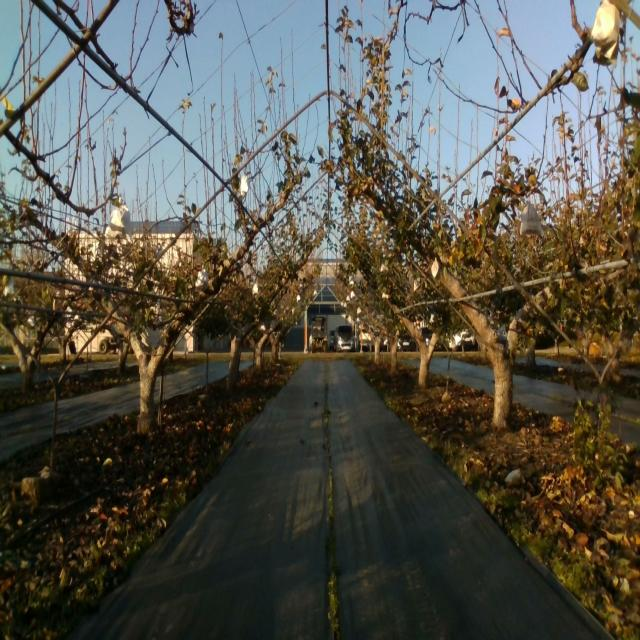pearbags: (591, 0, 620, 68), (104, 195, 132, 247), (519, 202, 544, 238), (195, 265, 209, 291)
